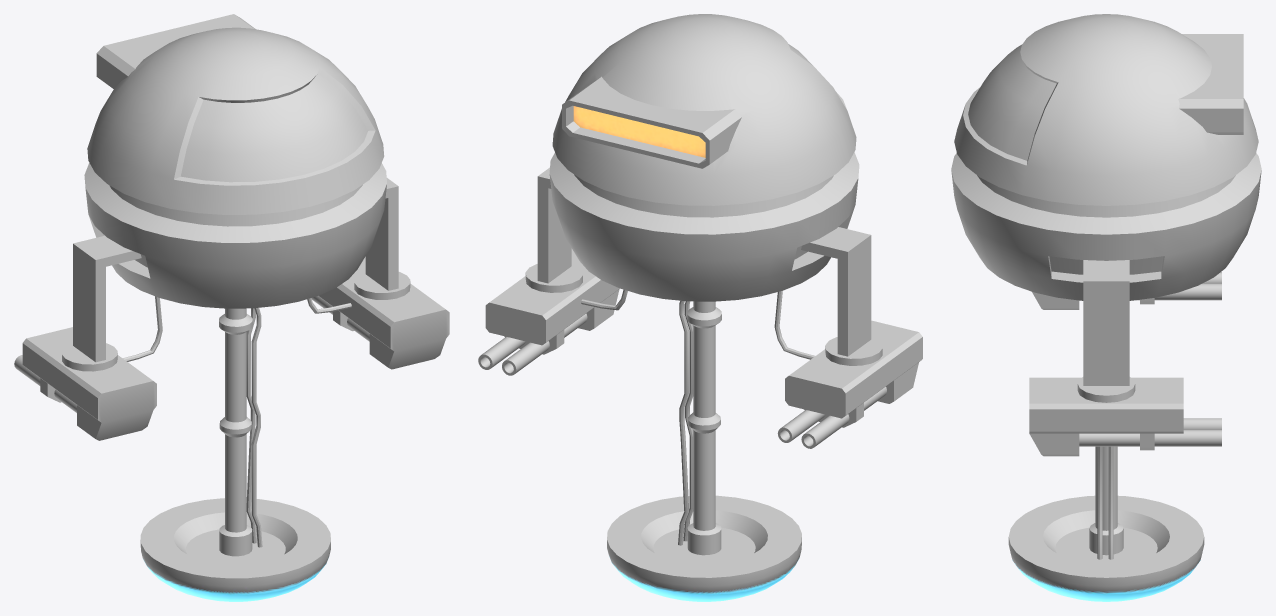
Rendered from Robot_Collector.fbx.
3 renders of one model, left to right at view 1: azimuth 30°, elevation 25°; view 2: azimuth 150°, elevation 25°; view 3: azimuth 270°, elevation 25°, orthographic. The views are drawn at different scales.
Visible parts, largest first — view 1: Robot_Collector; view 2: Robot_Collector; view 3: Robot_Collector.
Boxes of the visible parts, x1=… form: Robot_Collector: x1=14, y1=14, x2=449, y2=601; Robot_Collector: x1=478, y1=14, x2=922, y2=601; Robot_Collector: x1=951, y1=14, x2=1261, y2=601.
Size of the model in its own units: 103 by 152 by 76.74.
